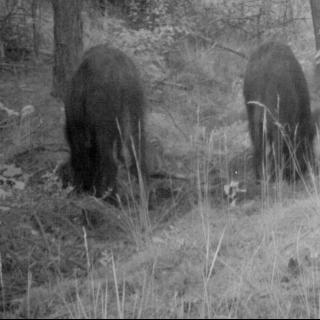Pig: (47, 44, 159, 226), (243, 37, 320, 215)
